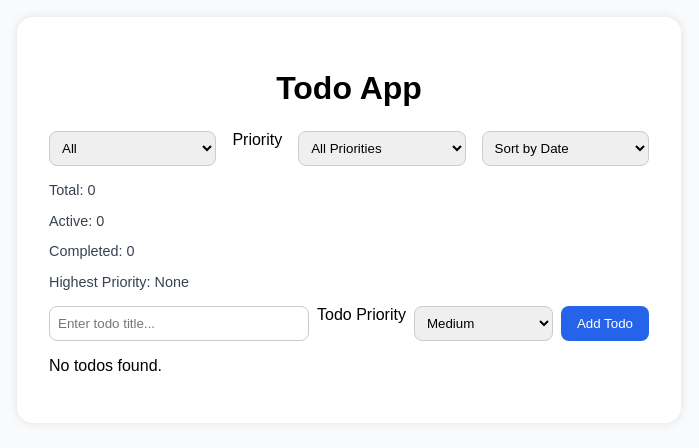
deletes a todo
Type "Delete me" into the field with placeholder "Enter todo title..." at (179, 323), box [49,306,309,341]
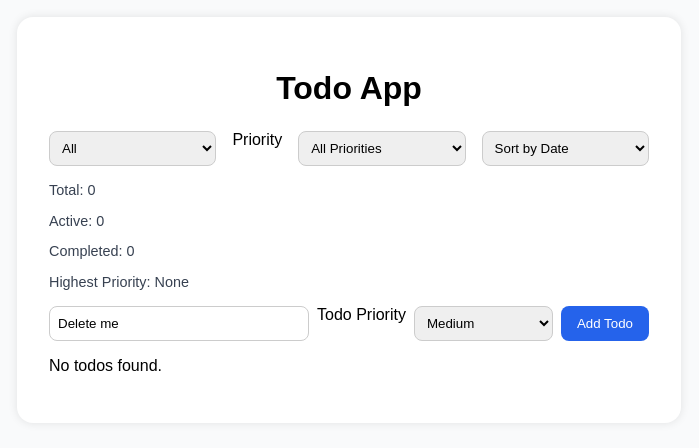
Click the button "Add Todo" at (605, 323), box [561,306,649,341]
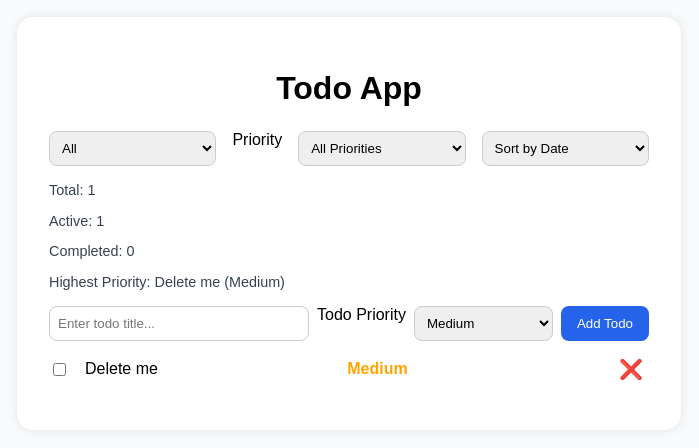
Click the button "❌" at (631, 369), box [613,357,649,382]
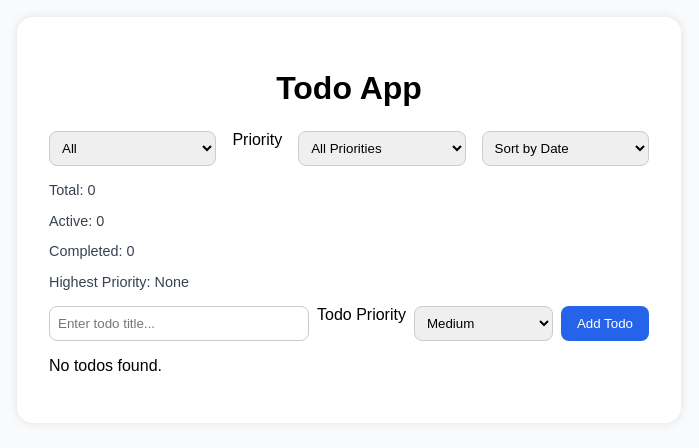
Expected: the text "Delete me" is gone
